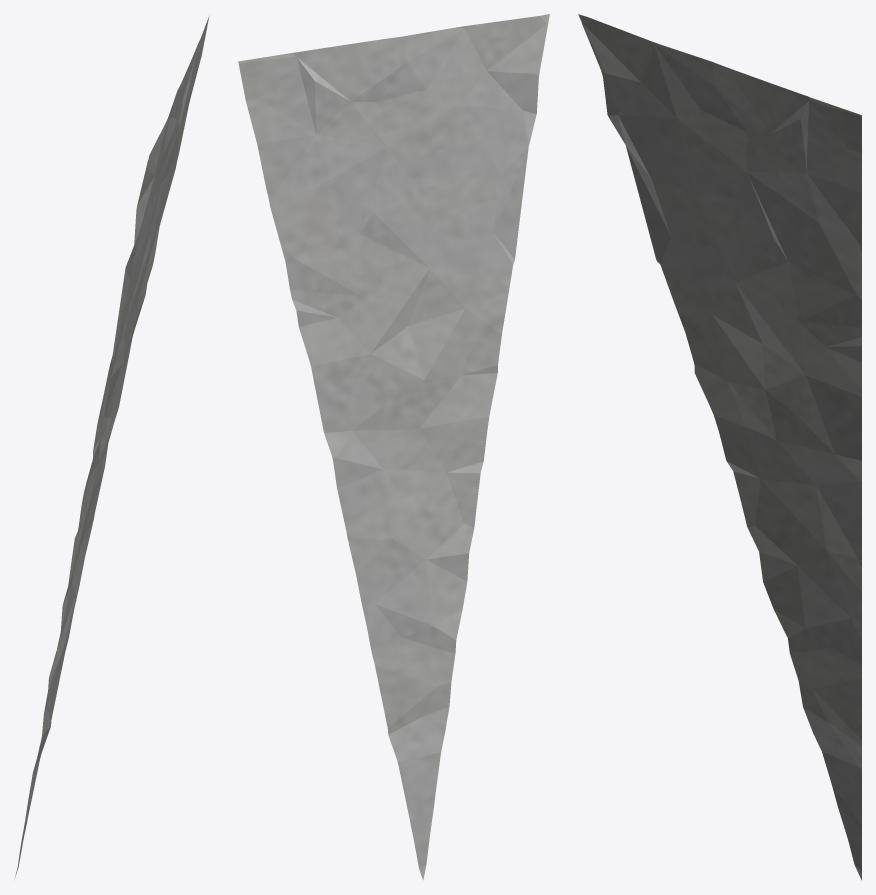
3 views of the same model, side by side, from view 1: azimuth 30°, elevation 25°; view 2: azimuth 150°, elevation 25°; view 3: azimuth 270°, elevation 25° (orthographic). The views are drawn at different scales.
Bounding box in the file's own units: 0.1622 × 0.6476 × 0.1922.
Materials: 1 (1 with a texture image).
